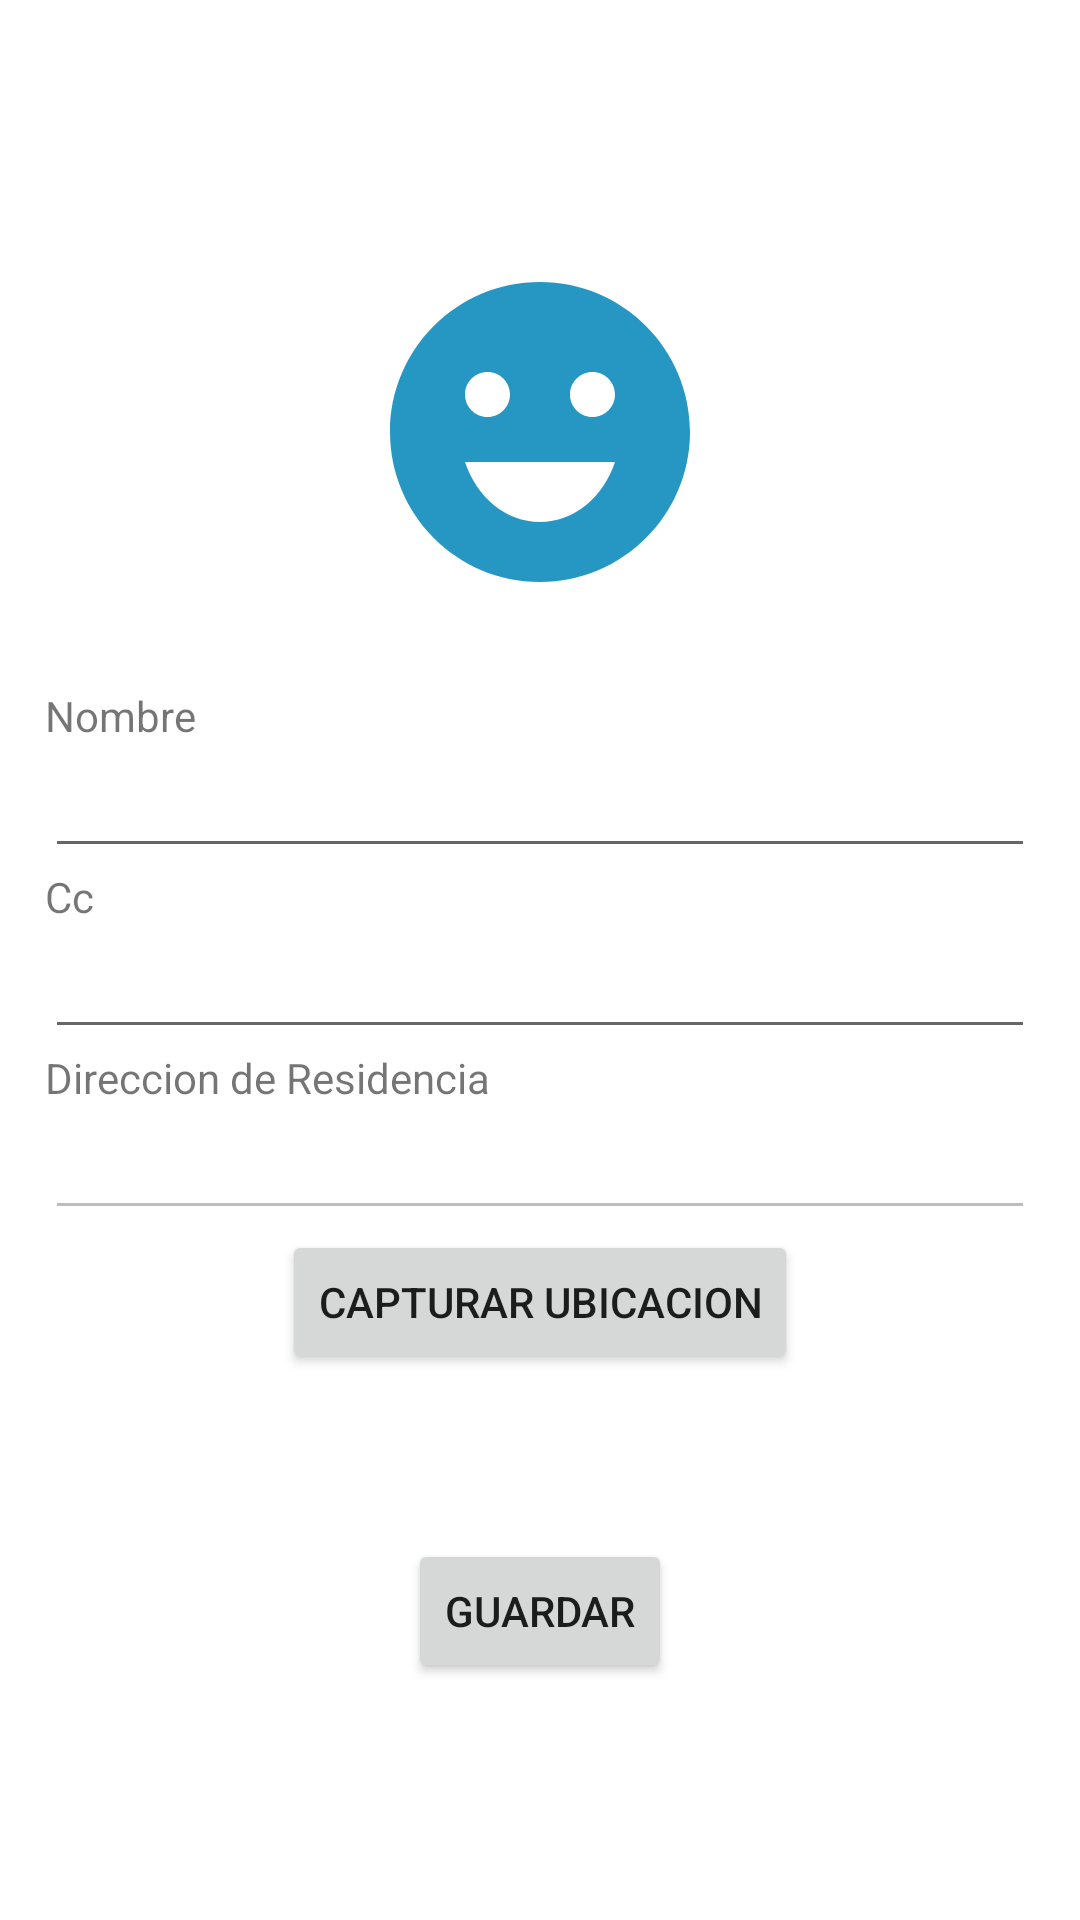

Where to tap for icons on this 1080x1920 app screen, as (x=x, y=y):
user: (x=540, y=432)
